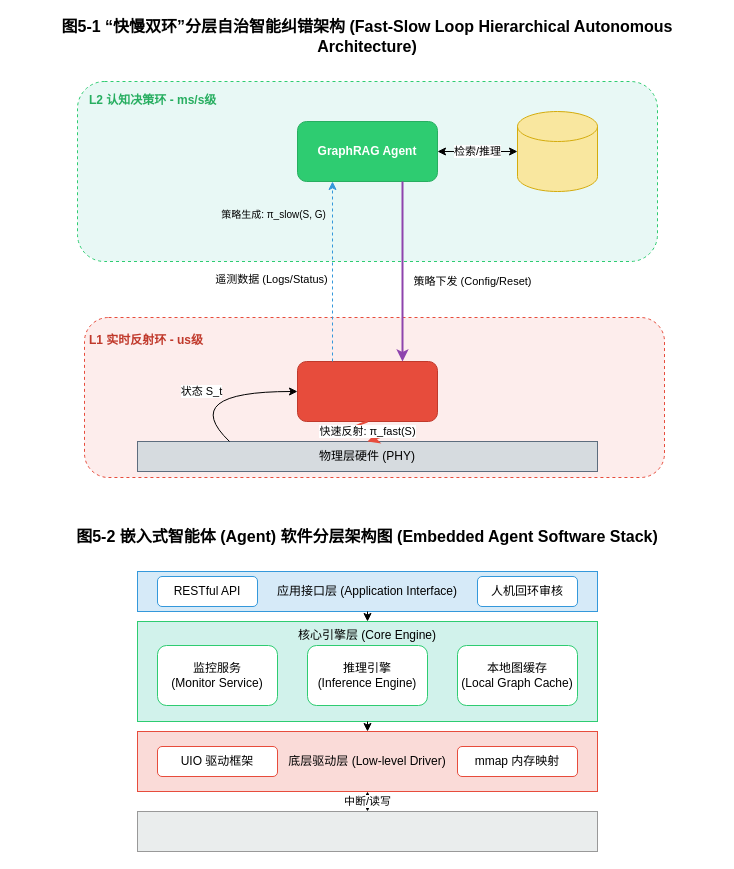
This 734x869 diagram has some shape labels left out. Each missing label, with the centre of its shape:
知识图谱 (G): point 557,151
硬件 CSR 接口 (FPGA Registers): point 367,831
硬件FSM / 实时固件: point 367,391
